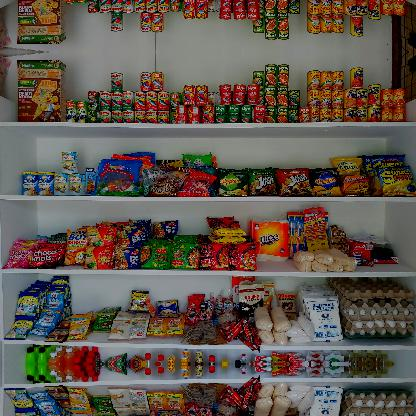Koko-Krunch: (16, 59, 66, 121), (16, 0, 66, 46)
